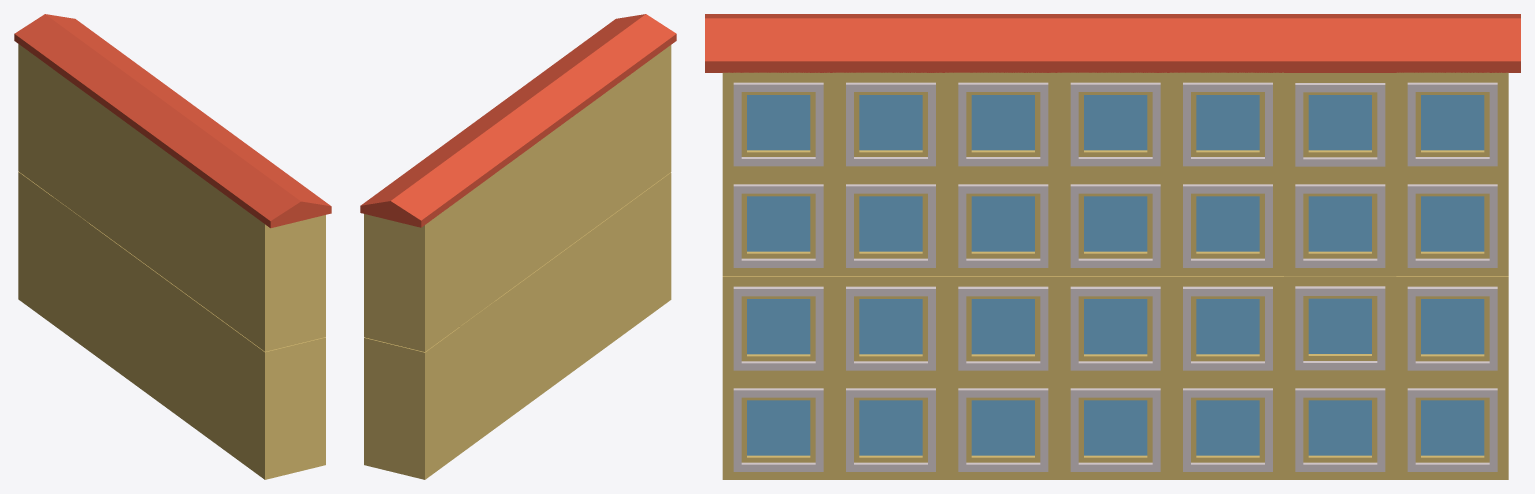
Rendered from home3.fbx.
3 renders of one model, left to right at view 1: azimuth 30°, elevation 25°; view 2: azimuth 150°, elevation 25°; view 3: azimuth 270°, elevation 25°, orthographic. The views are drawn at different scales.
Parts seen in each view (by area): view 1: Cube.028, Cube.007, Cube, Cube.014, Cube.021, Cube.011, Cube.008, Cube.013, Cube.012, Cube.009, Cube.010, Cube.002 (+17 smaller); view 2: Cube.028, Cube.013, Cube.006, Cube.020, Cube.027, Cube.011, Cube.010, Cube.007, Cube.009, Cube.012, Cube.014, Cube (+17 smaller); view 3: Cube.028, Cube.010, Cube.013, Cube.007, Cube.008, Cube.009, Cube.011, Cube.012, Cube, Cube.001, Cube.002, Cube.003 (+17 smaller).
Boxes of the visible parts, <box> form: Cube.028: <box>14,14,331,228</box>; Cube.007: <box>229,326,325,416</box>; Cube: <box>229,390,325,479</box>; Cube.014: <box>229,262,325,351</box>; Cube.021: <box>229,199,325,287</box>; Cube.011: <box>88,223,123,312</box>; Cube.008: <box>194,301,229,389</box>; Cube.013: <box>18,171,53,260</box>; Cube.012: <box>53,197,88,286</box>; Cube.009: <box>159,275,194,364</box>; Cube.010: <box>124,249,159,338</box>; Cube.002: <box>159,339,194,427</box>; Cube.028: <box>360,14,676,227</box>; Cube.013: <box>364,327,460,415</box>; Cube.006: <box>364,391,460,479</box>; Cube.020: <box>364,263,460,351</box>; Cube.027: <box>364,199,460,288</box>; Cube.011: <box>495,275,530,364</box>; Cube.010: <box>530,249,565,338</box>; Cube.007: <box>636,172,671,261</box>; Cube.009: <box>565,224,600,312</box>; Cube.012: <box>460,301,495,389</box>; Cube.014: <box>636,108,671,197</box>; Cube: <box>636,236,671,325</box>; Cube.028: <box>705,14,1520,72</box>; Cube.010: <box>1059,276,1171,378</box>; Cube.013: <box>1396,276,1508,378</box>; Cube.007: <box>722,276,834,378</box>; Cube.008: <box>835,276,947,378</box>; Cube.009: <box>947,276,1059,378</box>; Cube.011: <box>1171,276,1283,378</box>; Cube.012: <box>1284,276,1396,378</box>; Cube: <box>722,378,834,479</box>; Cube.001: <box>835,378,947,479</box>; Cube.002: <box>947,378,1059,479</box>; Cube.003: <box>1059,378,1171,479</box>.
Size of the model in its own units: 209 by 861 by 1453.
